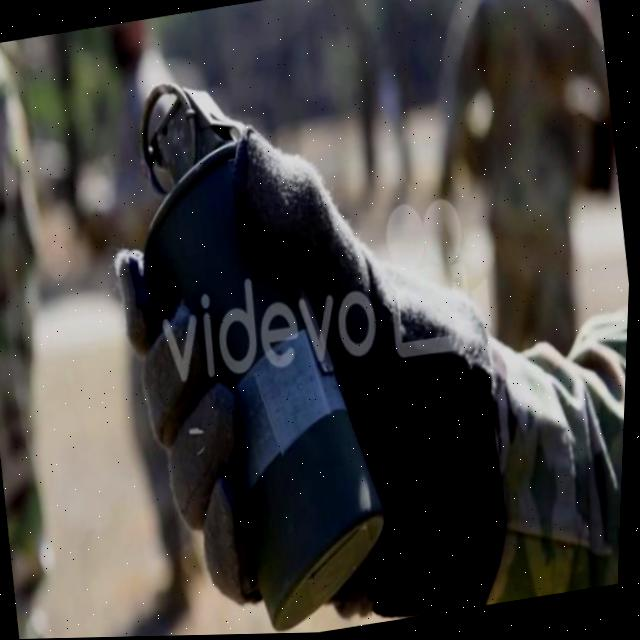grenade: (99, 56, 423, 638)
